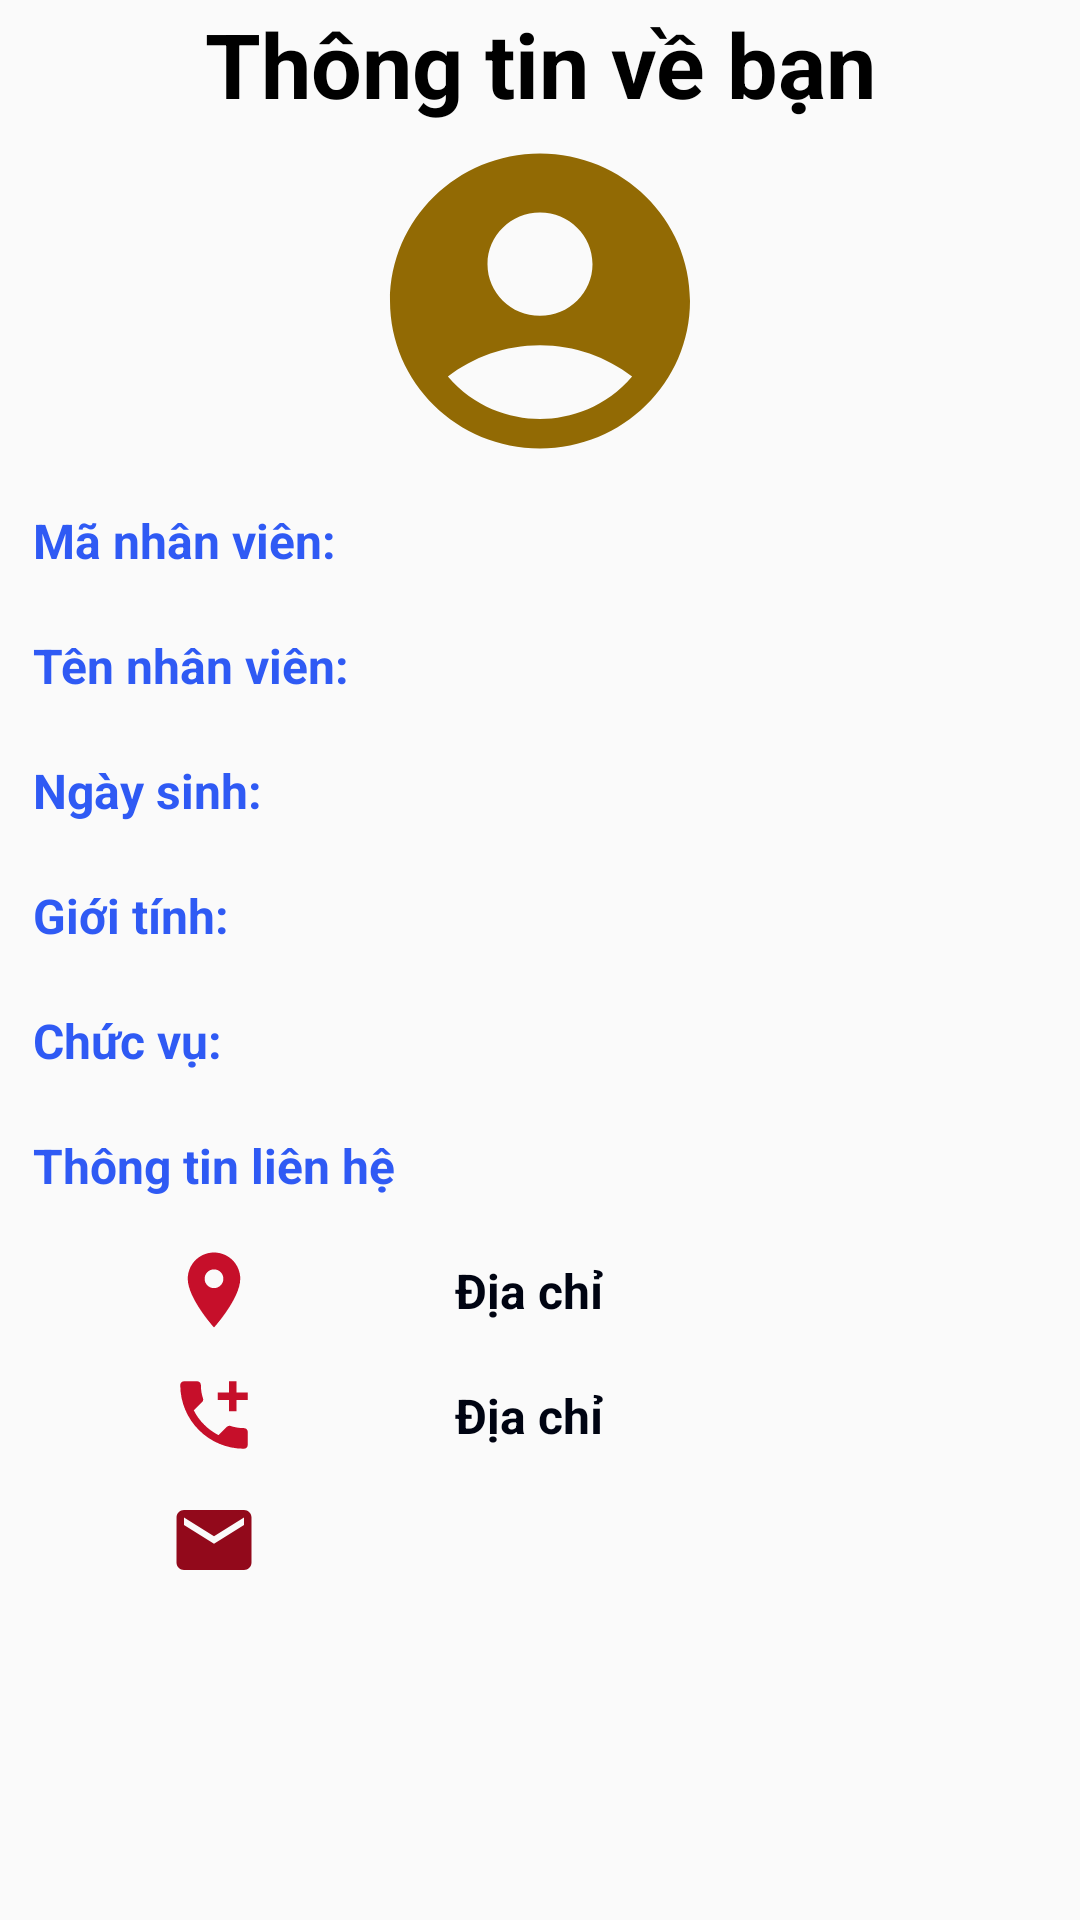

Named icons in this screenshot (1080px×1920px) and their bounding boxes, (x1, y1, x2, y2):
account circle: (390, 153, 690, 449)
add call: (180, 1381, 248, 1449)
email: (176, 1510, 252, 1570)
location on: (187, 1252, 241, 1327)
